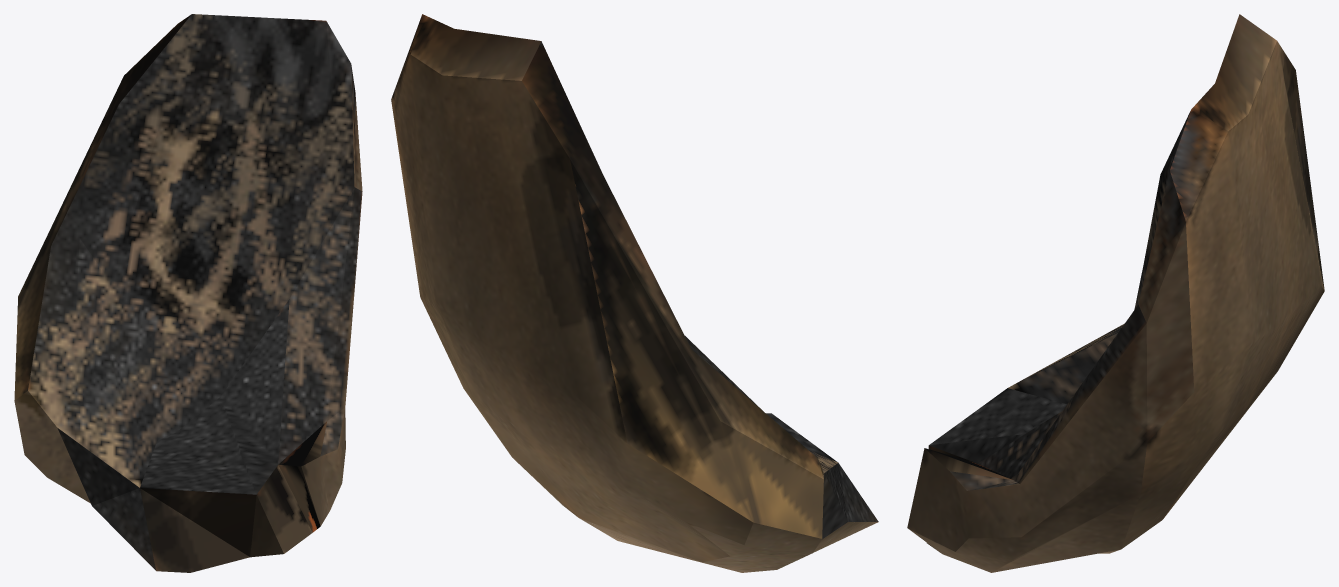
File: broekn_road_hole.fbx
3 renders of one model, left to right at view 1: azimuth 30°, elevation 25°; view 2: azimuth 150°, elevation 25°; view 3: azimuth 270°, elevation 25°, orthographic. The views are drawn at different scales.
Parts seen in each view (by area): view 1: Cube; view 2: Cube; view 3: Cube.
Part boxes in pixels (x1=…): Cube: x1=14, y1=14, x2=362, y2=572; Cube: x1=391, y1=14, x2=878, y2=572; Cube: x1=907, y1=14, x2=1324, y2=572.
Size of the model in its own units: 341 by 429 by 287.
1 material, 1 textured.
